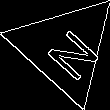N_NW: (32, 16, 98, 79)
